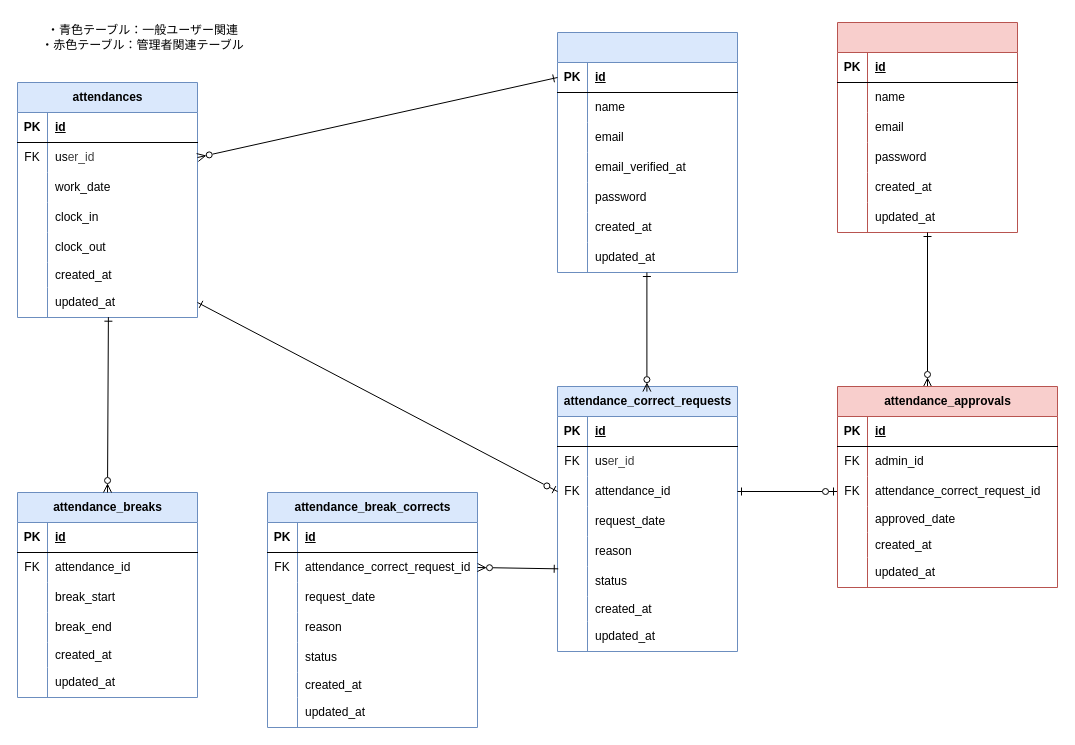
Image size: 1075x745. Some labels were removed from this diagram. Each missing label, with the box of its shape:
admins: (836, 22, 1018, 232)
users: (556, 32, 738, 272)
